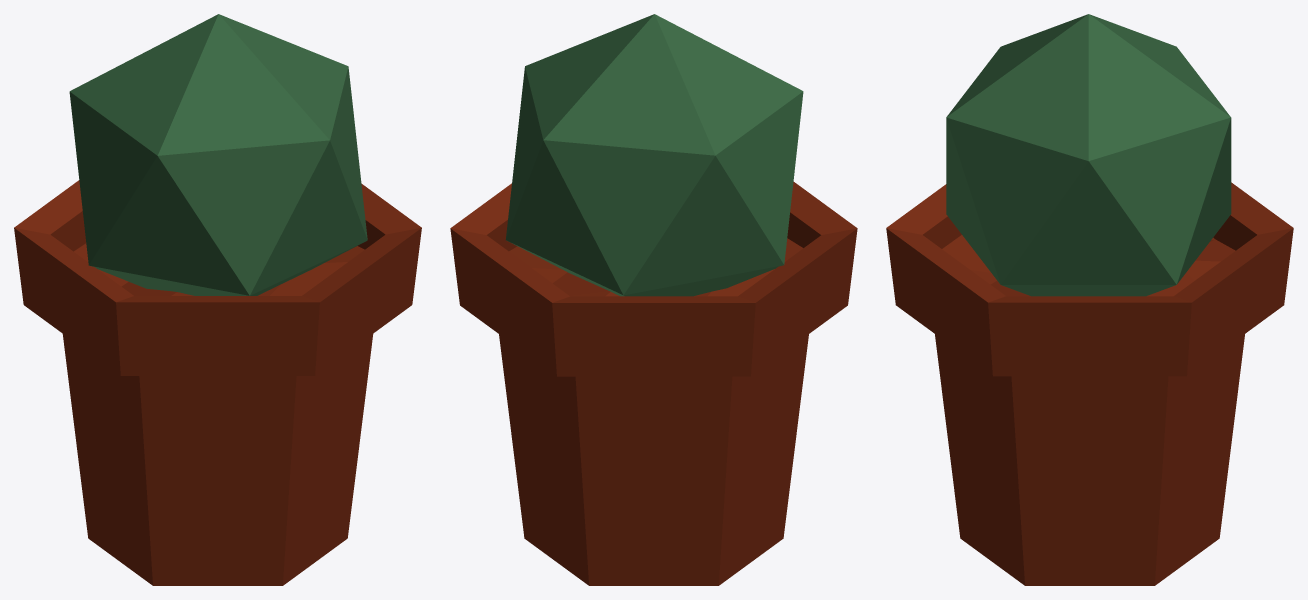
File: maly_krzaczek.fbx
3 views of the same model, side by side, from view 1: azimuth 30°, elevation 25°; view 2: azimuth 150°, elevation 25°; view 3: azimuth 270°, elevation 25° (orthographic).
Visible parts, largest first — view 1: maly krzaczek doniczka, maly krzaczek; view 2: maly krzaczek doniczka, maly krzaczek; view 3: maly krzaczek doniczka, maly krzaczek.
Boxes of the visible parts, x1,y1,x2,y2 form: maly krzaczek doniczka: (14, 180, 421, 585); maly krzaczek: (69, 14, 367, 295); maly krzaczek doniczka: (450, 182, 857, 585); maly krzaczek: (505, 14, 803, 296); maly krzaczek doniczka: (886, 182, 1293, 585); maly krzaczek: (946, 14, 1231, 296).
Size of the model in its own units: 38.66 by 63.39 by 44.64.
